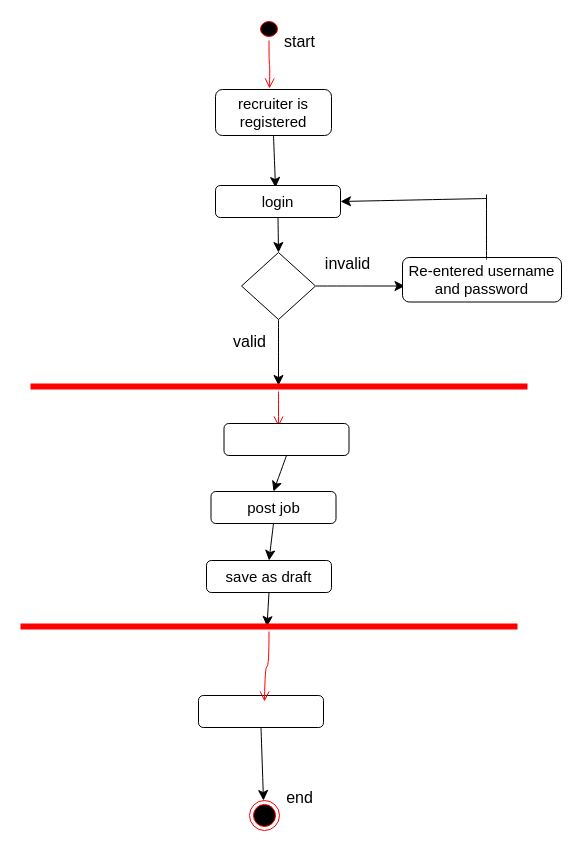
The diagram is 579 pixels wide and 848 high, and some of its shapes have lost their labels. Each missing label, with the box of its shape:
logout: (198, 694, 324, 728)
recruiter: (223, 422, 349, 456)
